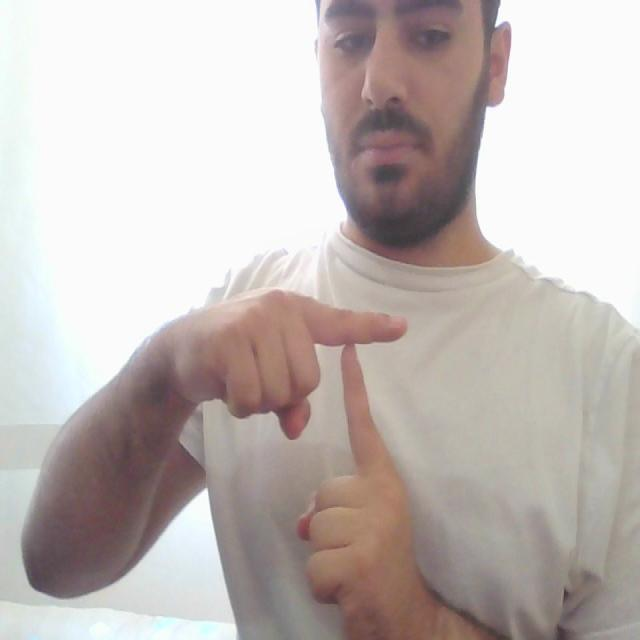Tesekkurler: (294, 274, 424, 500)
